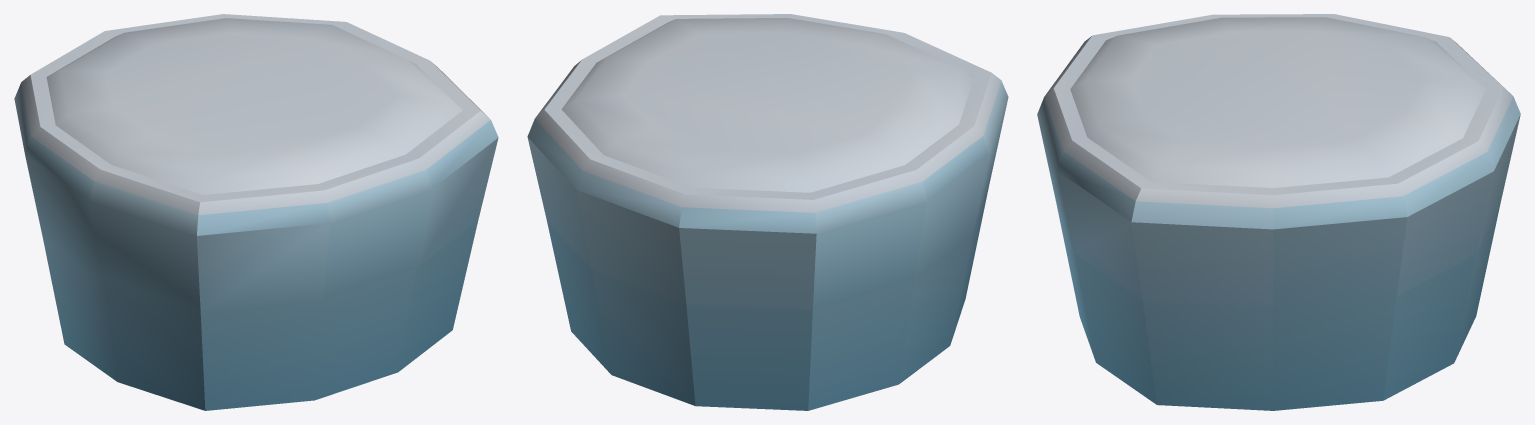
The model's file is ice_floe.glb.
3 views of the same model, side by side, from view 1: azimuth 30°, elevation 25°; view 2: azimuth 150°, elevation 25°; view 3: azimuth 270°, elevation 25° (orthographic). The views are drawn at different scales.
Visible parts, largest first — view 1: ice_floe; view 2: ice_floe; view 3: ice_floe.
Part boxes in pixels (box(x1,y1,x2,y2)): ice_floe: box(14, 14, 498, 410); ice_floe: box(527, 14, 1008, 410); ice_floe: box(1037, 14, 1520, 410).
Size of the model in its own units: 1.84 by 1.06 by 1.93.
